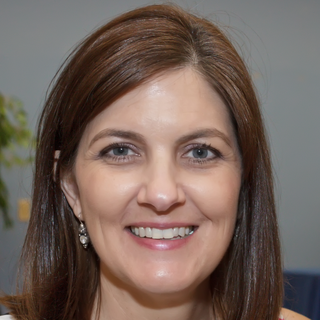eye: (175, 140, 224, 165), (96, 140, 145, 164)
